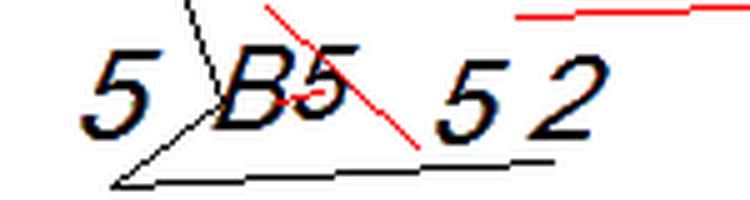2: (522, 49, 617, 148)
5: (71, 41, 172, 145), (428, 51, 516, 150), (290, 37, 365, 126)
B: (208, 38, 297, 136)
